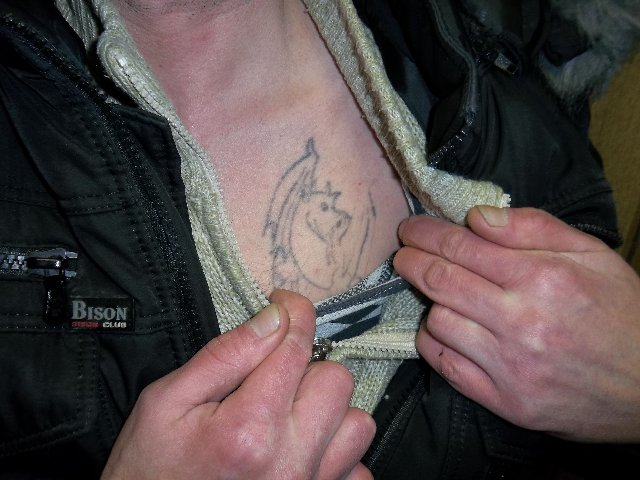tatu6_drakon: (243, 121, 409, 323)
